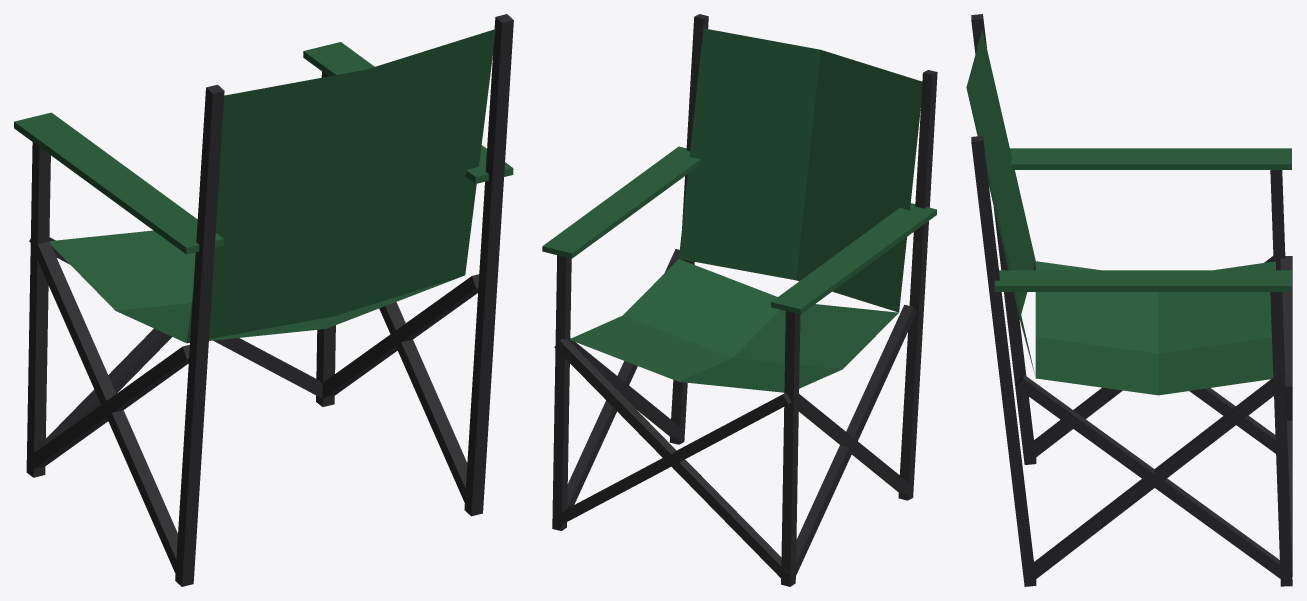
Rendered from camp-chair.glb.
The picture shows the model from 3 angles, left to right: view 1: azimuth 30°, elevation 25°; view 2: azimuth 150°, elevation 25°; view 3: azimuth 270°, elevation 25°; orthographic projection. The views are drawn at different scales.
Parts seen in each view (by area): view 1: camp-chair; view 2: camp-chair; view 3: camp-chair.
Boxes of the visible parts, x1,y1,x2,y2 form: camp-chair: (14,14,513,586); camp-chair: (542,14,937,586); camp-chair: (966,14,1292,586).
Bounding box in the file's own units: 0.671 × 1.01 × 0.6721.
